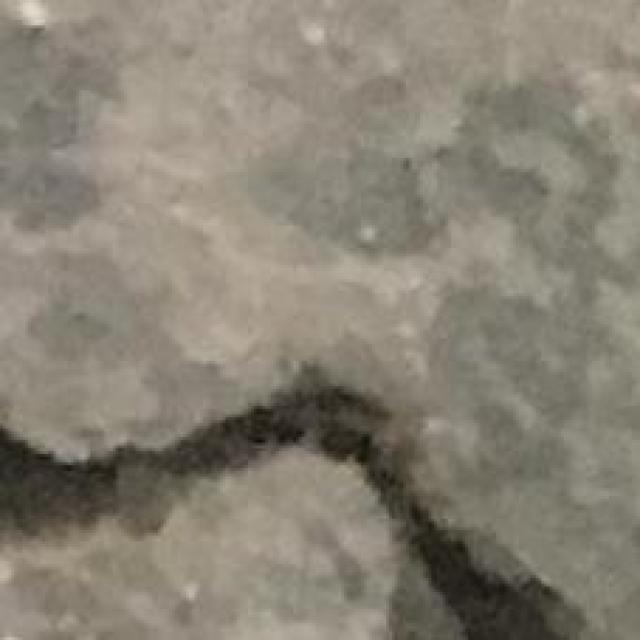curved crack: (0, 378, 577, 639)
